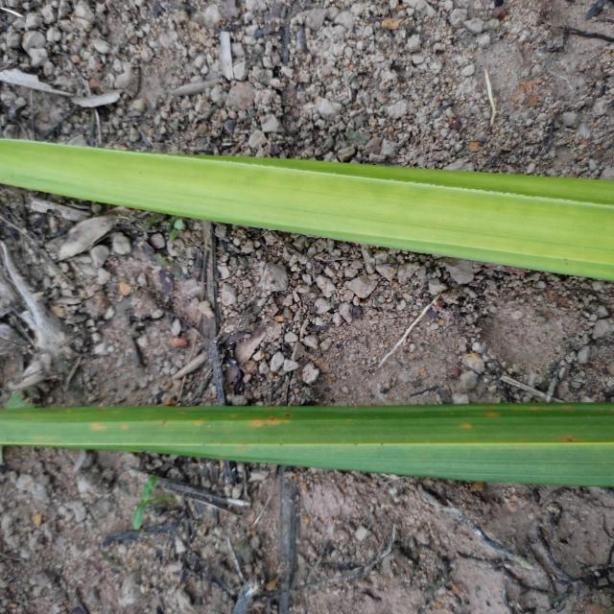nitrogen: (0, 133, 614, 286), (0, 401, 614, 491)
